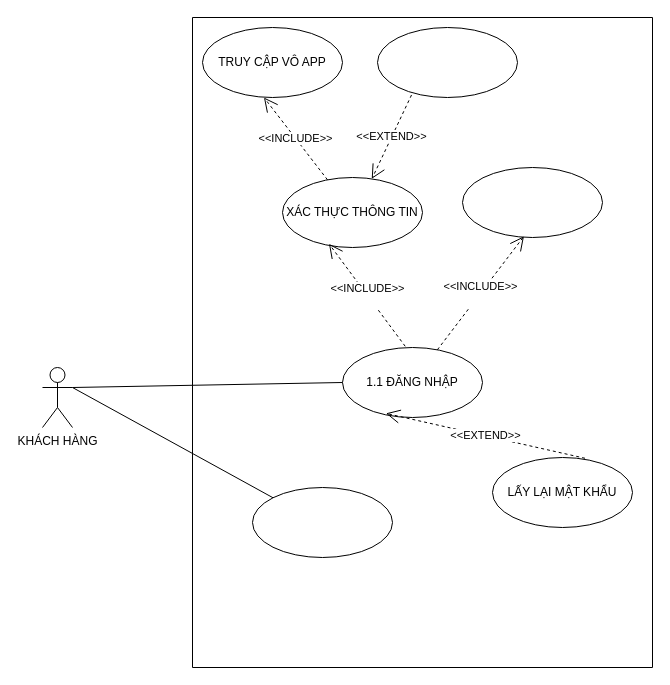
Some shapes in this 670 by 685 pixel diagram are drawn without their labels. Here are the shapes that lost their labels. From the top down, the centre of each, then its label:
At point (447, 62): "HIỂN THỊ THÔNG BÃO LỖI".
At point (532, 202): "NHẬP TÀI KHOẢN VÀ MẬT KHẨU".
At point (322, 522): "ĐĂNG XUẤT".
